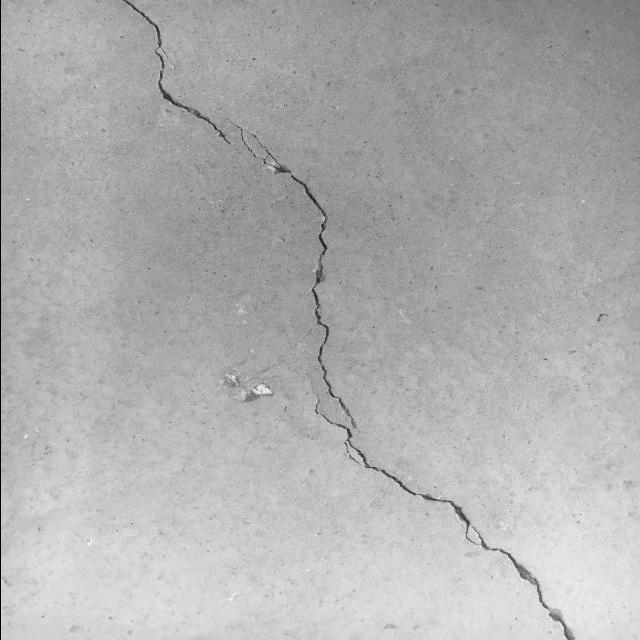SurfaceCrack: (2, 0, 587, 638)
